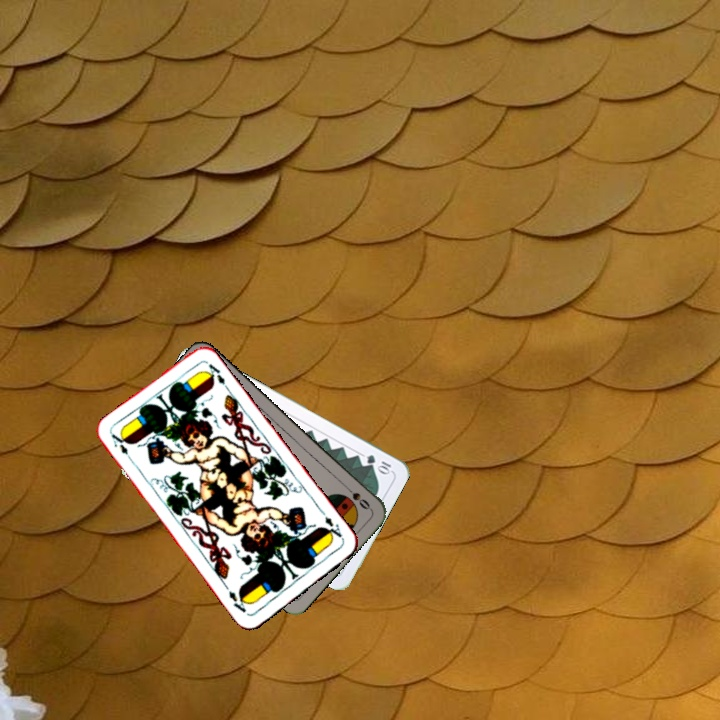EA: (107, 430, 136, 465), (320, 512, 346, 542)
G10: (362, 450, 394, 476)
SO: (340, 481, 373, 512)
